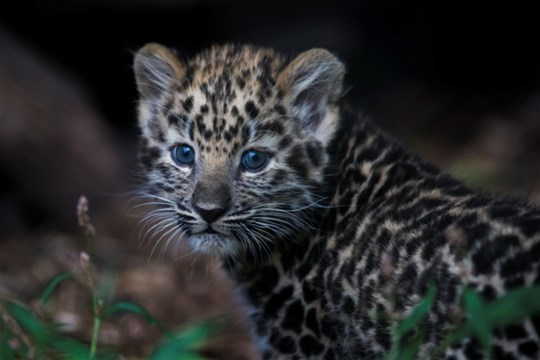amur_leopard: (110, 27, 417, 286)
